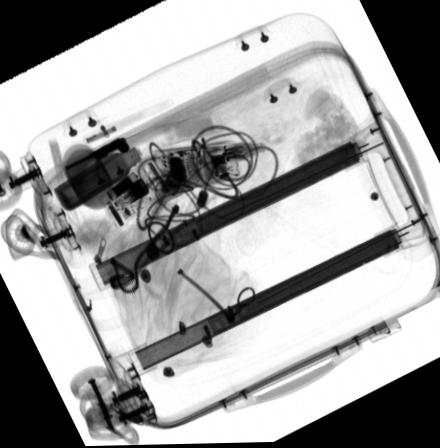Gun: (61, 136, 132, 171)
